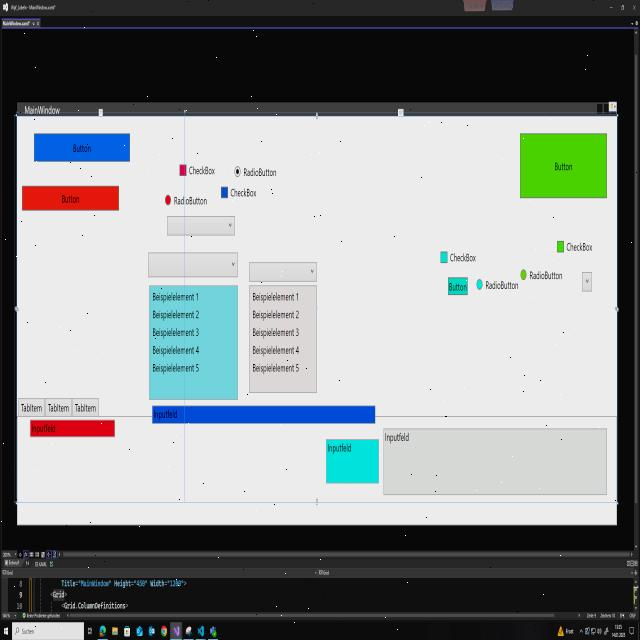button: (518, 130, 611, 206), (32, 128, 132, 164), (20, 182, 121, 216), (446, 272, 471, 298)
checkbox: (220, 185, 229, 200), (556, 239, 565, 254), (440, 250, 448, 264), (179, 164, 187, 177)
dropdownMenu: (146, 250, 239, 402), (248, 260, 318, 394), (167, 214, 236, 238), (580, 268, 595, 296)
input: (382, 422, 610, 500), (151, 403, 378, 428), (324, 434, 380, 489), (30, 419, 115, 438)
label: (174, 195, 208, 207), (529, 269, 563, 281), (486, 279, 518, 291), (243, 167, 277, 178), (188, 164, 216, 177), (566, 241, 593, 253), (230, 187, 258, 198), (449, 252, 476, 263)
menuItem: (152, 290, 200, 305), (252, 361, 300, 376), (152, 343, 200, 357), (252, 307, 300, 321), (252, 290, 300, 304), (251, 326, 301, 339), (251, 343, 300, 356), (152, 362, 200, 374), (152, 326, 200, 338), (152, 309, 200, 321)
radio: (164, 193, 172, 206), (520, 268, 527, 282), (476, 277, 483, 291), (234, 165, 241, 178)
tabControl: (71, 394, 100, 418), (16, 394, 46, 417), (44, 395, 72, 418)
